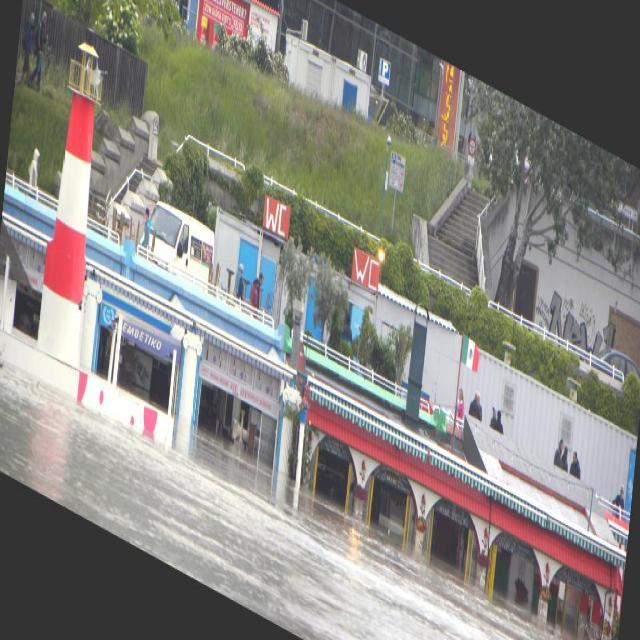flood: (0, 305, 617, 639)
